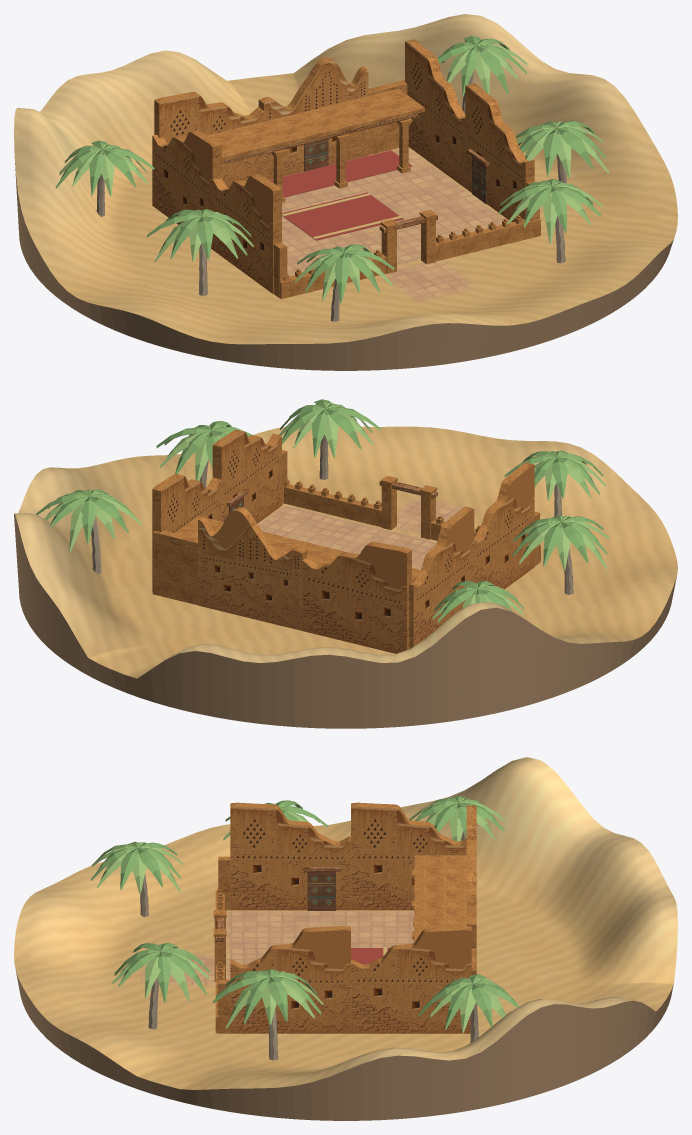
The picture shows the model from 3 angles, top to bottom: view 1: azimuth 30°, elevation 25°; view 2: azimuth 150°, elevation 25°; view 3: azimuth 270°, elevation 25°; orthographic projection.
Parts seen in each view (by area): view 1: Ground, Plinth, RiwaqRoof, FacadeSteps.003, FacadeSteps.004, FacadeSteps.005, FacadeSteps.002, FacadeGable.001, FacadeSteps.001, Carpet, RiwaqCarpet, LowWall.001 (+10 smaller); view 2: Ground, Plinth, FacadeSteps.001, FacadeGable.001, FacadeSteps.004, FacadeSteps.002, FacadeSteps.005, FacadeSteps.003, BackWallEnd, LowWall.001, RiwaqRoof, GatePost.001 (+1 smaller); view 3: Ground, Plinth, FacadeSteps.004, FacadeSteps.003, FacadeSteps.005, FacadeSteps.002, RiwaqRoof, SideDoorL, FacadeSteps.001, FacadeGable.001, SideWallEnd.001, SideWallEnd.
Boxes of the visible parts, x1=… form: Ground: x1=14, y1=14, x2=677, y2=344; Plinth: x1=14, y1=158, x2=673, y2=370; RiwaqRoof: x1=208, y1=89, x2=424, y2=160; FacadeSteps.003: x1=405, y1=39, x2=465, y2=187; FacadeSteps.004: x1=212, y1=174, x2=281, y2=293; FacadeSteps.005: x1=465, y1=83, x2=534, y2=221; FacadeSteps.002: x1=152, y1=129, x2=221, y2=249; FacadeGable.001: x1=258, y1=57, x2=368, y2=179; FacadeSteps.001: x1=154, y1=92, x2=263, y2=187; Carpet: x1=282, y1=192, x2=403, y2=240; RiwaqCarpet: x1=269, y1=150, x2=411, y2=197; LowWall.001: x1=436, y1=218, x2=540, y2=261; Ground: x1=14, y1=425, x2=677, y2=678; Plinth: x1=14, y1=513, x2=676, y2=728; FacadeSteps.001: x1=302, y1=541, x2=411, y2=653; FacadeGable.001: x1=198, y1=507, x2=307, y2=630; FacadeSteps.004: x1=474, y1=462, x2=534, y2=589; FacadeSteps.002: x1=409, y1=506, x2=474, y2=649; FacadeSteps.005: x1=212, y1=429, x2=281, y2=523; FacadeSteps.003: x1=152, y1=473, x2=221, y2=591; BackWallEnd: x1=152, y1=530, x2=197, y2=605; LowWall.001: x1=284, y1=484, x2=381, y2=527; RiwaqRoof: x1=175, y1=516, x2=420, y2=583; GatePost.001: x1=381, y1=481, x2=396, y2=529; Ground: x1=14, y1=757, x2=677, y2=1089; Plinth: x1=16, y1=972, x2=673, y2=1120; FacadeSteps.004: x1=230, y1=802, x2=350, y2=910; FacadeSteps.003: x1=351, y1=926, x2=471, y2=1033; FacadeSteps.005: x1=230, y1=926, x2=350, y2=1033; FacadeSteps.002: x1=351, y1=802, x2=466, y2=910; RiwaqRoof: x1=414, y1=855, x2=466, y2=941; SideDoorL: x1=307, y1=871, x2=335, y2=910; FacadeSteps.001: x1=466, y1=805, x2=476, y2=881; FacadeGable.001: x1=466, y1=881, x2=476, y2=973; SideWallEnd.001: x1=218, y1=979, x2=230, y2=1033; SideWallEnd: x1=218, y1=856, x2=230, y2=910.
Bounding box in the file's own units: 33 × 6.41 × 33.
17 materials, 10 textured.
